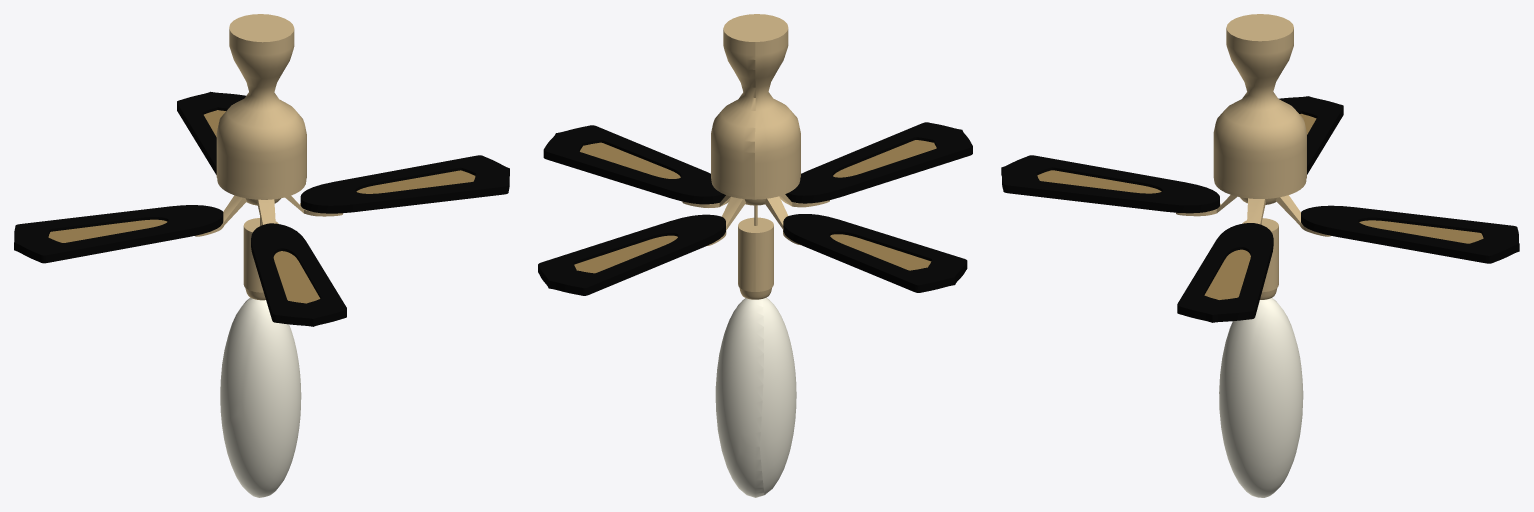
File: sh-contrib-ceiling-fan.glb
The picture shows the model from 3 angles, left to right: view 1: azimuth 30°, elevation 25°; view 2: azimuth 150°, elevation 25°; view 3: azimuth 270°, elevation 25°; orthographic projection.
Visible parts, largest first — view 1: CeilingFan5028_2_2, CeilingFan_1_1, CeilingFan6900_4_4, CeilingFan6820_3_3; view 2: CeilingFan5028_2_2, CeilingFan_1_1, CeilingFan6900_4_4, CeilingFan6820_3_3; view 3: CeilingFan5028_2_2, CeilingFan_1_1, CeilingFan6900_4_4, CeilingFan6820_3_3.
Part boxes in pixels (left/top/right/bottom): CeilingFan5028_2_2: left=14, top=91, right=509, bottom=326; CeilingFan_1_1: left=195, top=14, right=342, bottom=300; CeilingFan6900_4_4: left=220, top=297, right=301, bottom=497; CeilingFan6820_3_3: left=48, top=110, right=475, bottom=303; CeilingFan5028_2_2: left=538, top=122, right=972, bottom=295; CeilingFan_1_1: left=682, top=14, right=829, bottom=299; CeilingFan6900_4_4: left=715, top=297, right=796, bottom=497; CeilingFan6820_3_3: left=574, top=140, right=936, bottom=273; CeilingFan5028_2_2: left=1001, top=96, right=1519, bottom=322; CeilingFan_1_1: left=1176, top=14, right=1330, bottom=299; CeilingFan6900_4_4: left=1219, top=298, right=1303, bottom=497; CeilingFan6820_3_3: left=1037, top=113, right=1483, bottom=299.
Bounding box in the file's own units: 1 × 1 × 1.
